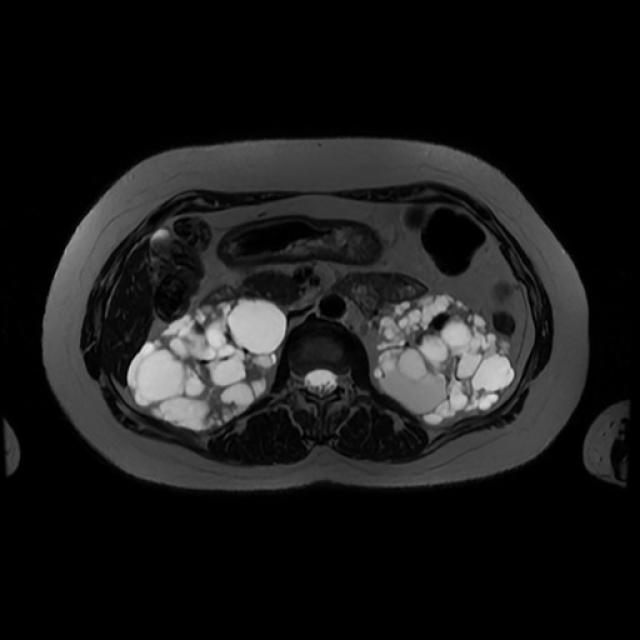sag: (128, 297, 287, 433)
sol: (374, 293, 518, 426)
